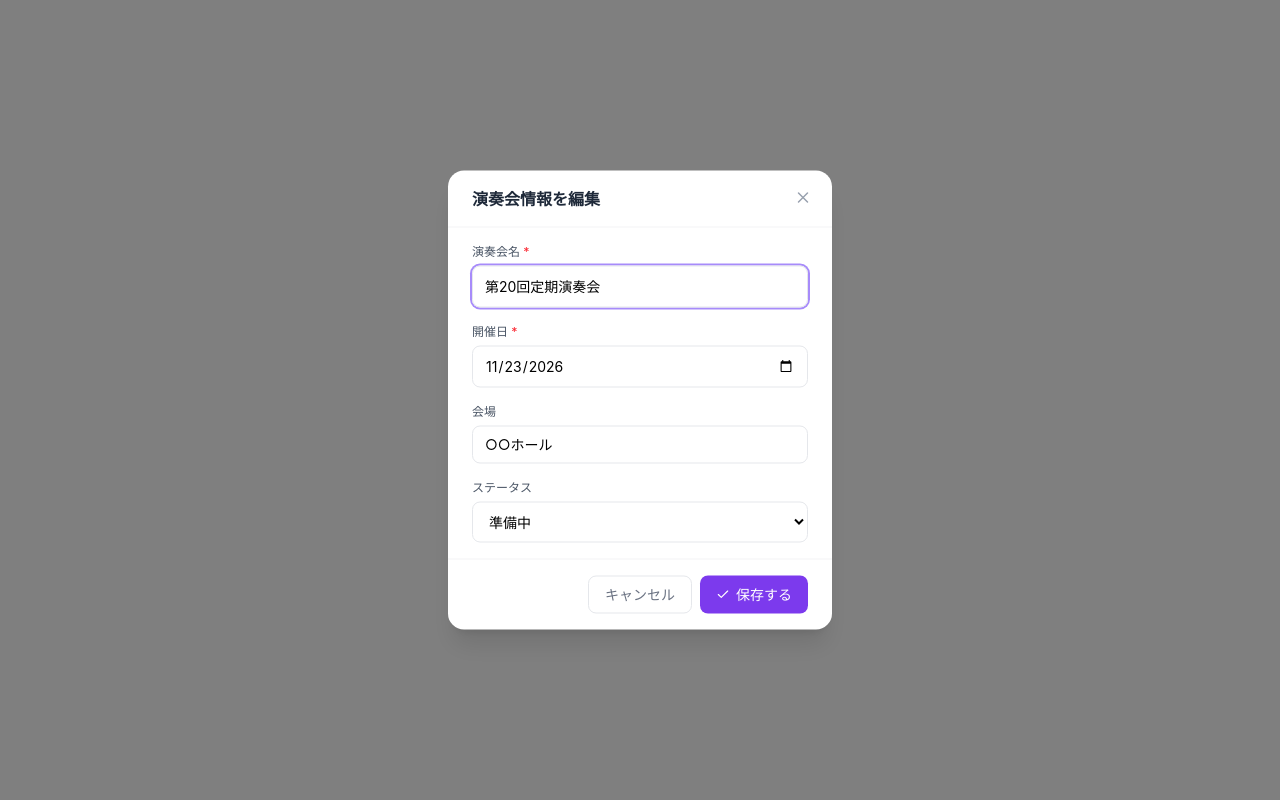
it: EditConcertModal（送信） › 4xxの送信失敗時はサーバーのメッセージを表示する
Click the button "保存する" at (754, 594), box [700, 576, 808, 614]
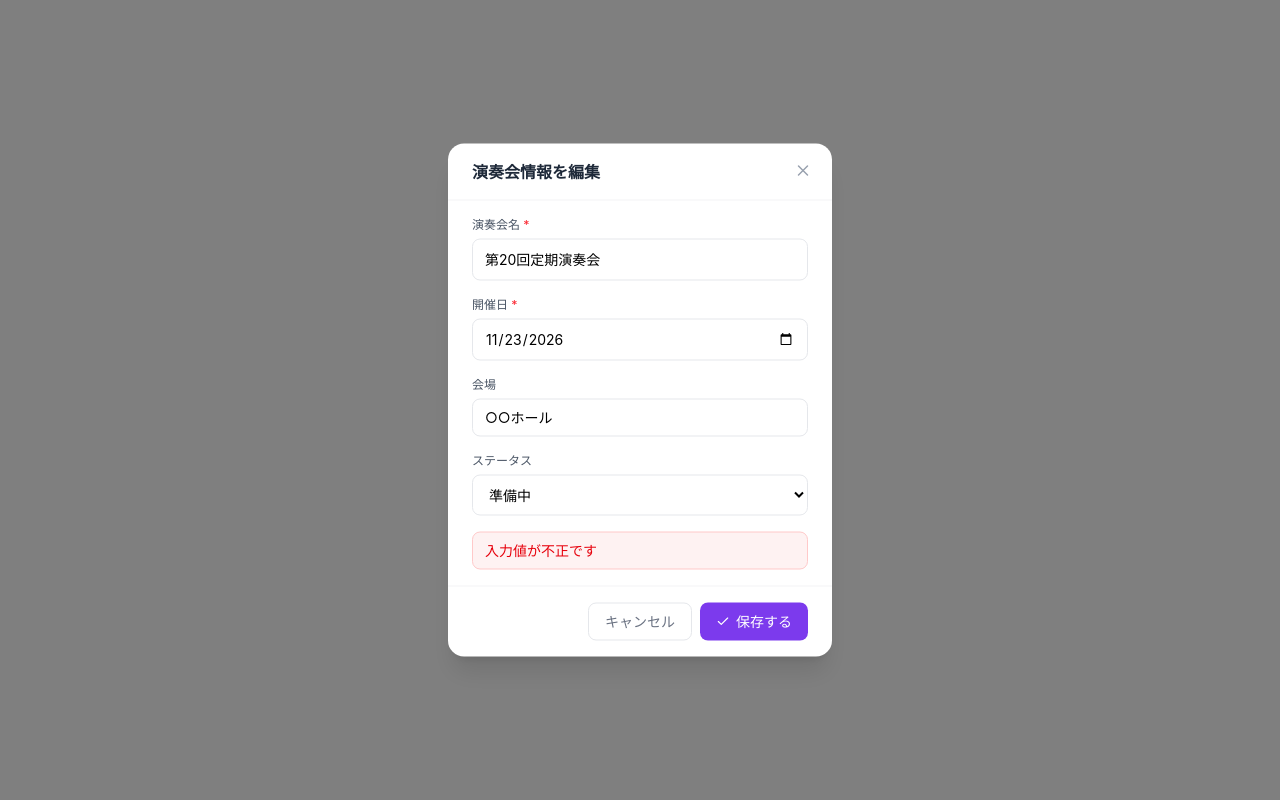
Check: the message reads "入力値が不正です", box [485, 542, 597, 558]
